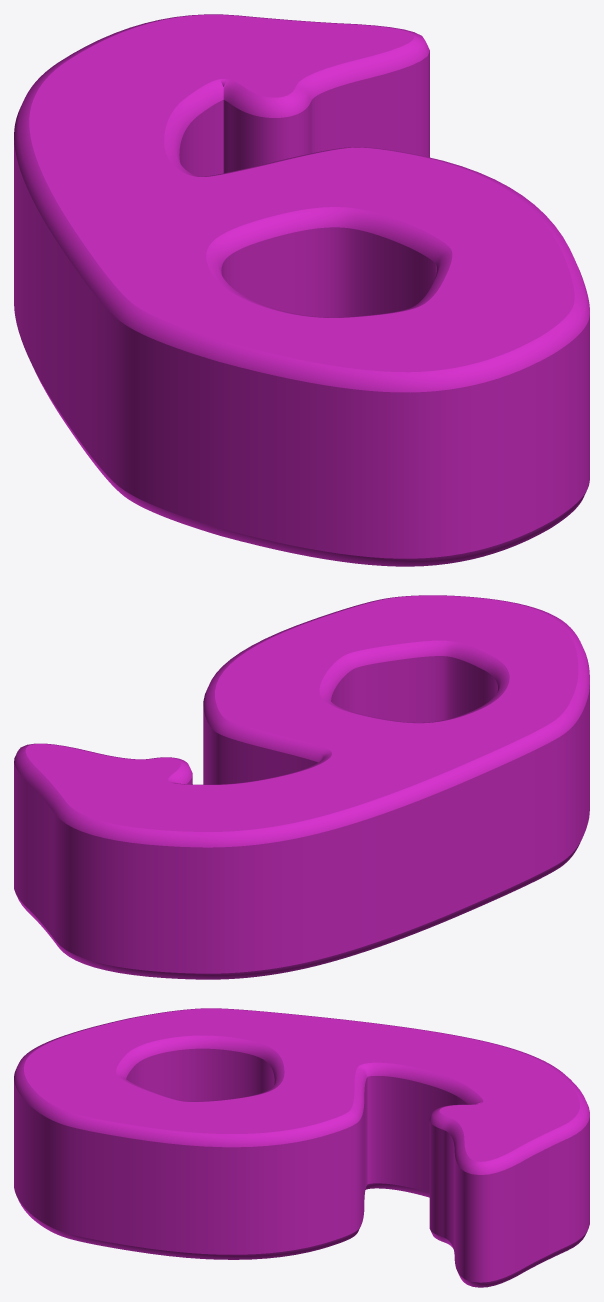
The model's file is Bubble_Number9.fbx.
3 views of the same model, one above another, from view 1: azimuth 30°, elevation 25°; view 2: azimuth 150°, elevation 25°; view 3: azimuth 270°, elevation 25° (orthographic). The views are drawn at different scales.
Parts seen in each view (by area): view 1: BubbleNumber_9; view 2: BubbleNumber_9; view 3: BubbleNumber_9.
Part boxes in pixels (box(x1,y1,x2,y2)): BubbleNumber_9: box(14, 14, 589, 566); BubbleNumber_9: box(14, 595, 589, 979); BubbleNumber_9: box(14, 1008, 589, 1287).
Bounding box in the file's own units: 0.3873 × 0.14 × 0.5827.
